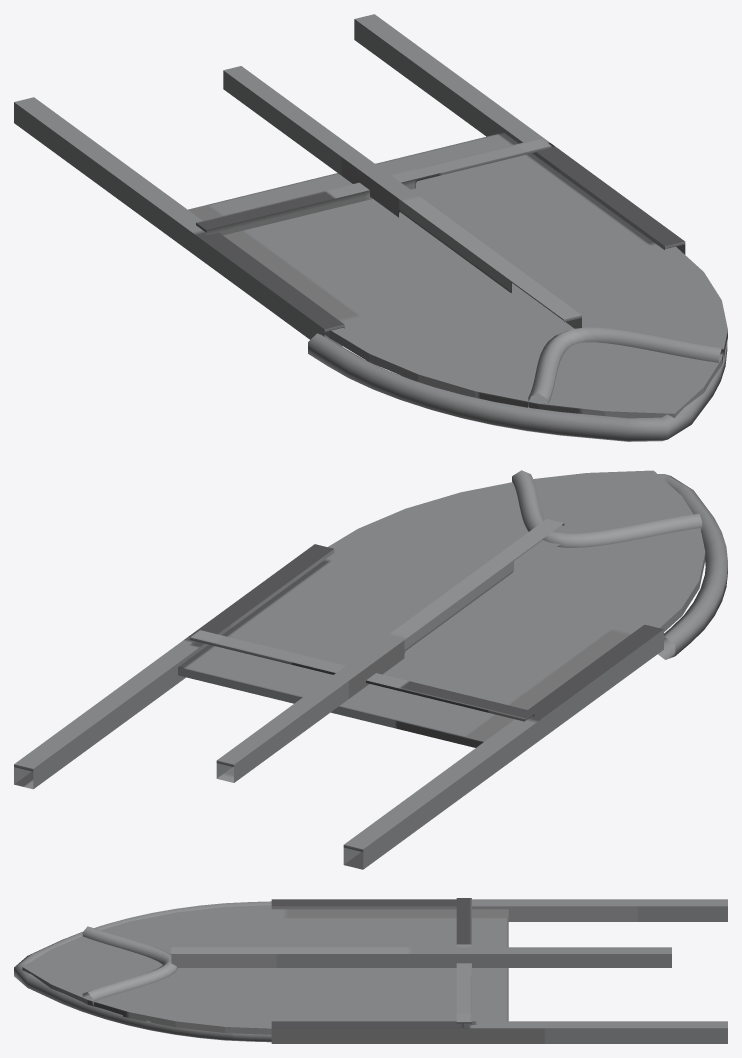
3 views of the same model, one above another, from view 1: azimuth 30°, elevation 25°; view 2: azimuth 150°, elevation 25°; view 3: azimuth 270°, elevation 25° (orthographic). The views are drawn at different scales.
Size of the model in its own units: 0.9332 by 0.1105 by 2.1.
